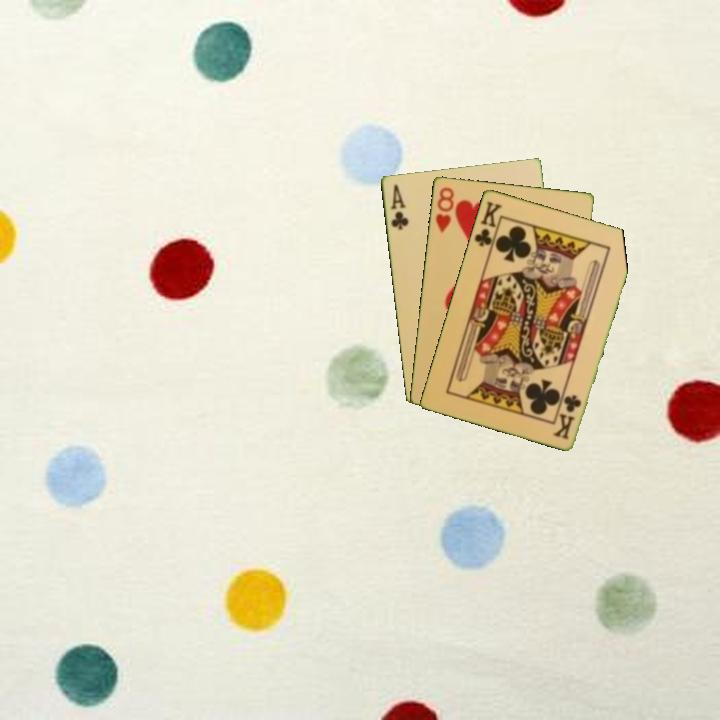8h: (431, 183, 457, 235)
Ac: (386, 181, 411, 233)
Kc: (470, 197, 505, 254), (551, 391, 584, 442)
